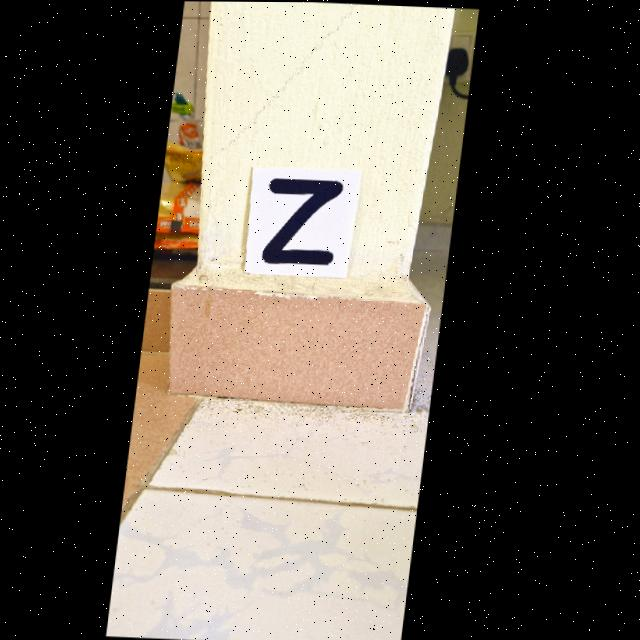Z: (265, 178, 346, 263)
